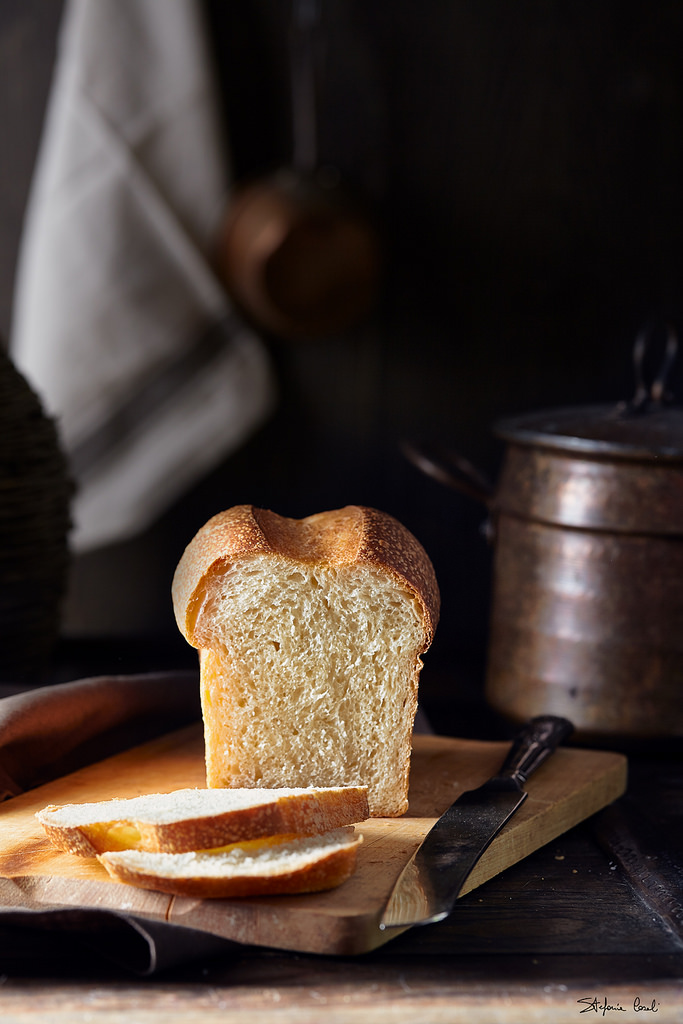slice of bread: (166, 493, 438, 832), (33, 777, 381, 904)
